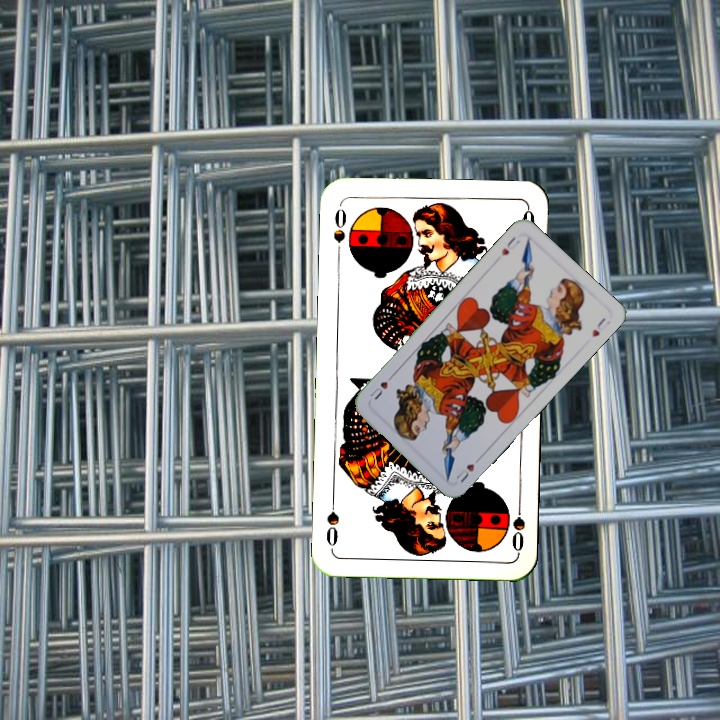HU: (451, 452, 484, 485), (497, 233, 522, 258)
SO: (507, 496, 528, 555), (329, 201, 349, 260)
